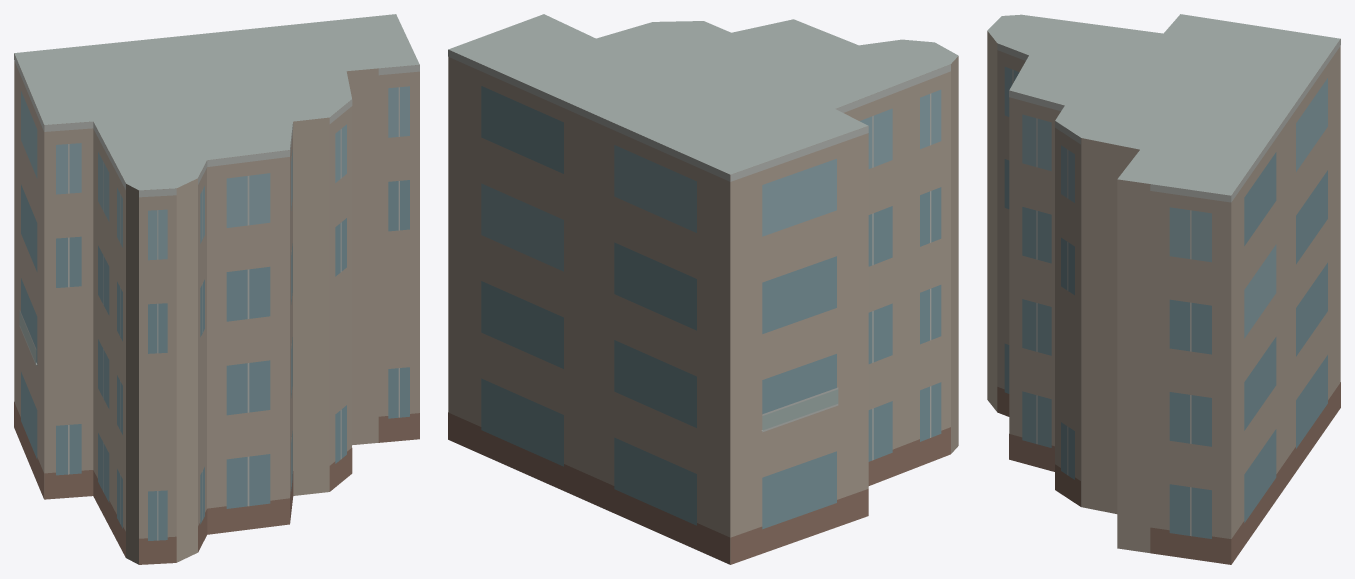
Rendered from survey-upis-32954649.glb.
The picture shows the model from 3 angles, left to right: view 1: azimuth 30°, elevation 25°; view 2: azimuth 150°, elevation 25°; view 3: azimuth 270°, elevation 25°; orthographic projection. The views are drawn at different scales.
Visible parts, largest first — view 1: survey-upis-32954649.tmp; view 2: survey-upis-32954649.tmp; view 3: survey-upis-32954649.tmp.
Boxes of the visible parts, x1,y1,x2,y2 form: survey-upis-32954649.tmp: [14, 14, 419, 564]; survey-upis-32954649.tmp: [448, 14, 958, 564]; survey-upis-32954649.tmp: [987, 14, 1340, 564].
Bounding box in the file's own units: 13.94 × 13.2 × 11.46.
